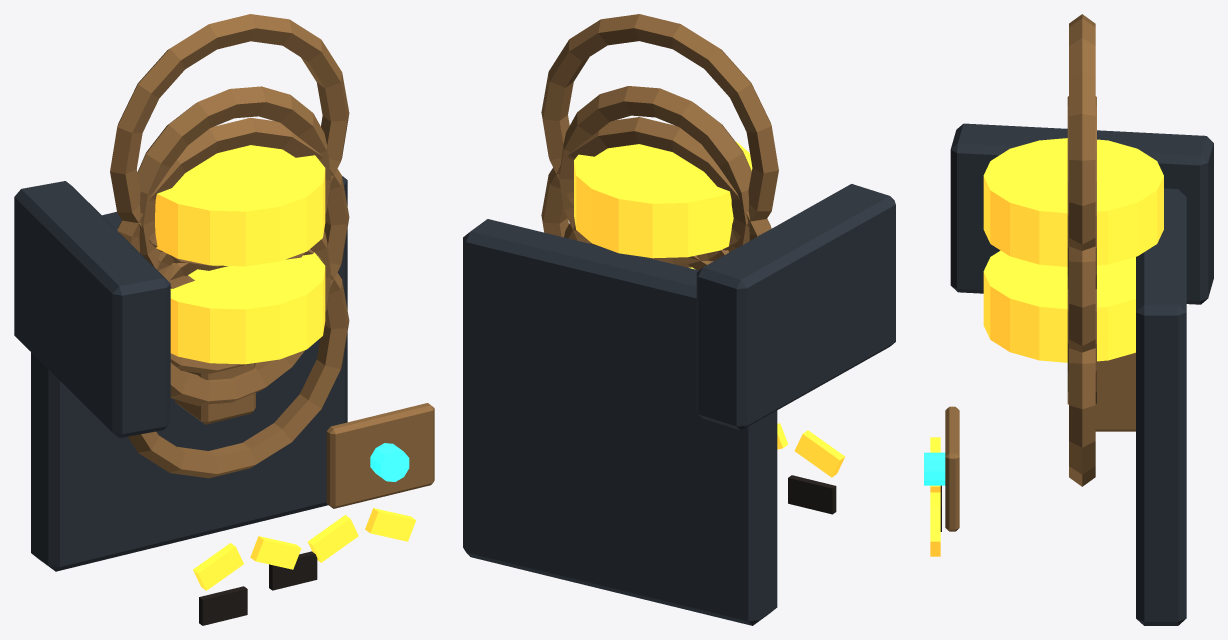
Rendered from runtime.glb.
The picture shows the model from 3 angles, left to right: view 1: azimuth 30°, elevation 25°; view 2: azimuth 150°, elevation 25°; view 3: azimuth 270°, elevation 25°; orthographic projection. The views are drawn at different scales.
Parts seen in each view (by area): view 1: kinetic-tide-warning-beacon-v09_steel_nocol, kinetic-tide-warning-beacon-v09_bronze_nocol, kinetic-tide-warning-beacon-v09_warningorange_nocol, kinetic-tide-warning-beacon-v09_weardark_nocol, kinetic-tide-warning-beacon-v09_cyansignal_nocol; view 2: kinetic-tide-warning-beacon-v09_steel_nocol, kinetic-tide-warning-beacon-v09_bronze_nocol, kinetic-tide-warning-beacon-v09_warningorange_nocol, kinetic-tide-warning-beacon-v09_weardark_nocol; view 3: kinetic-tide-warning-beacon-v09_steel_nocol, kinetic-tide-warning-beacon-v09_warningorange_nocol, kinetic-tide-warning-beacon-v09_bronze_nocol, kinetic-tide-warning-beacon-v09_cyansignal_nocol.
Part boxes in pixels (bbox=[...]): kinetic-tide-warning-beacon-v09_steel_nocol: bbox=[14, 176, 347, 571]; kinetic-tide-warning-beacon-v09_bronze_nocol: bbox=[110, 14, 434, 508]; kinetic-tide-warning-beacon-v09_warningorange_nocol: bbox=[155, 145, 415, 590]; kinetic-tide-warning-beacon-v09_weardark_nocol: bbox=[199, 551, 317, 625]; kinetic-tide-warning-beacon-v09_cyansignal_nocol: bbox=[370, 443, 409, 481]; kinetic-tide-warning-beacon-v09_steel_nocol: bbox=[463, 184, 895, 625]; kinetic-tide-warning-beacon-v09_bronze_nocol: bbox=[541, 14, 778, 270]; kinetic-tide-warning-beacon-v09_warningorange_nocol: bbox=[574, 141, 845, 477]; kinetic-tide-warning-beacon-v09_weardark_nocol: bbox=[788, 475, 836, 514]; kinetic-tide-warning-beacon-v09_steel_nocol: bbox=[950, 123, 1213, 625]; kinetic-tide-warning-beacon-v09_warningorange_nocol: bbox=[930, 138, 1163, 556]; kinetic-tide-warning-beacon-v09_bronze_nocol: bbox=[945, 14, 1135, 531]; kinetic-tide-warning-beacon-v09_cyansignal_nocol: bbox=[924, 452, 945, 485].
Bounding box in the file's own units: 1.77 × 2.8 × 1.39.
